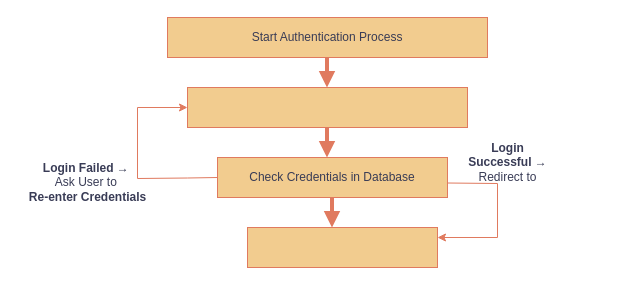
The diagram is 624 pixels wide and 285 high, and some of its shapes have lost their labels. Each missing label, with the box of its shape:
Dashboard: (246, 226, 438, 268)
User Enters Credentials: (186, 86, 468, 128)
